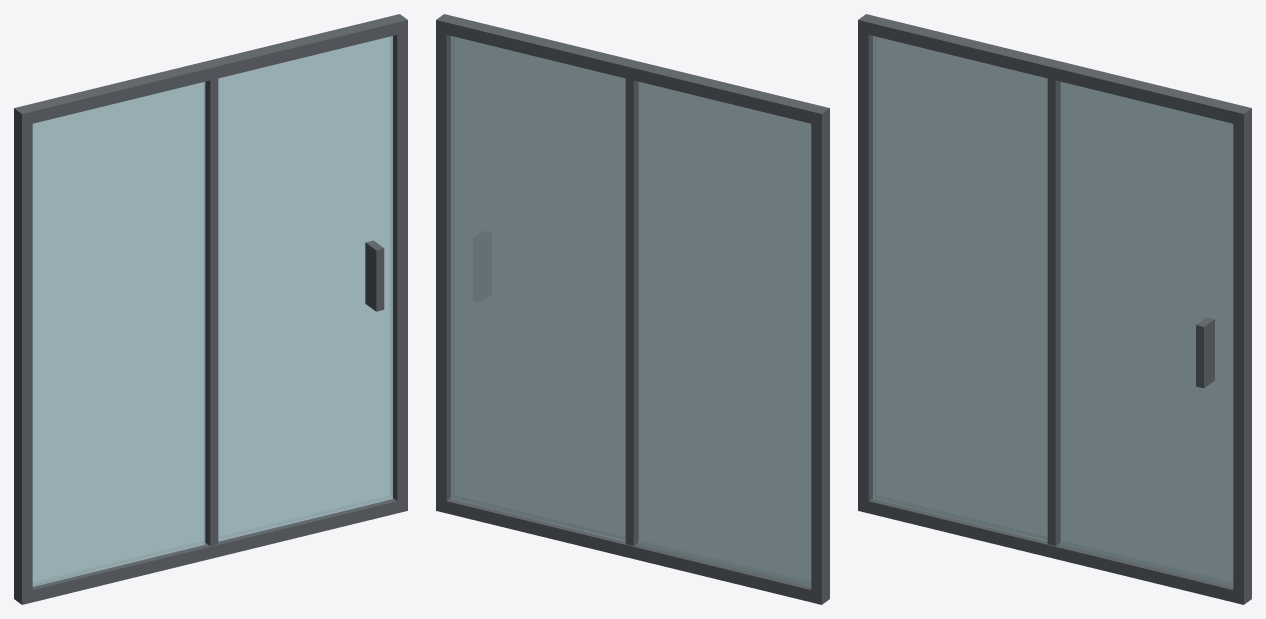
The model's file is mampara-negro-esmerilado.glb.
3 renders of one model, left to right at view 1: azimuth 30°, elevation 25°; view 2: azimuth 150°, elevation 25°; view 3: azimuth 330°, elevation 25°, orthographic.
Visible parts, largest first — view 1: glass-0.4, glass0.4, post-0.8, rail1.975, post0.8, center, rail0.025, handle; view 2: glass0.4, glass-0.4, post-0.8, rail1.975, post0.8, center, rail0.025; view 3: glass-0.4, glass0.4, post0.8, rail1.975, post-0.8, center, rail0.025, handle.
Boxes of the visible parts, x1,y1,x2,y2 form: glass-0.4: (32, 82, 205, 586); glass0.4: (218, 36, 392, 541); post-0.8: (14, 105, 32, 604); rail1.975: (25, 15, 401, 124); post0.8: (392, 14, 407, 513); center: (204, 61, 218, 545); rail0.025: (27, 498, 402, 602); handle: (365, 240, 384, 311); glass0.4: (451, 36, 625, 541); glass-0.4: (638, 82, 811, 586); post-0.8: (811, 105, 829, 604); rail1.975: (441, 16, 820, 124); post0.8: (436, 14, 452, 512); center: (625, 61, 638, 545); rail0.025: (441, 498, 816, 603); glass-0.4: (873, 36, 1047, 541); glass0.4: (1060, 82, 1233, 586); post0.8: (1233, 105, 1251, 604); rail1.975: (863, 15, 1240, 124); post-0.8: (858, 14, 873, 513); center: (1047, 60, 1061, 545); rail0.025: (863, 498, 1238, 603); handle: (1196, 317, 1214, 388).
Bounding box in the file's own units: 1.64 × 2 × 0.12.
